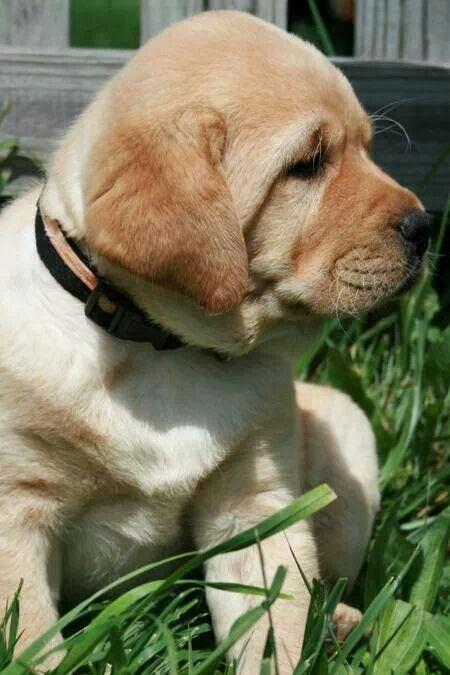puppy-dog: (0, 10, 435, 675)
